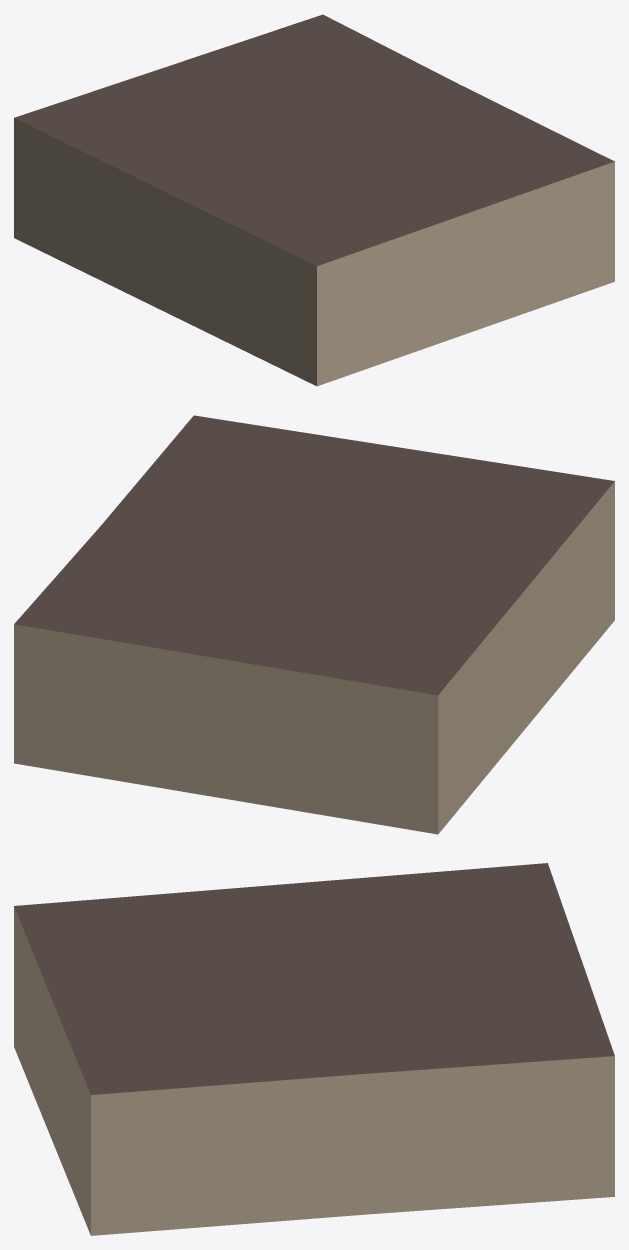
3 views of the same model, one above another, from view 1: azimuth 30°, elevation 25°; view 2: azimuth 150°, elevation 25°; view 3: azimuth 270°, elevation 25° (orthographic). The views are drawn at different scales.
Visible parts, largest first — view 1: HP-w1196661451; view 2: HP-w1196661451; view 3: HP-w1196661451.
Boxes of the visible parts, x1,y1,x2,y2 form: HP-w1196661451: [14, 14, 614, 386]; HP-w1196661451: [14, 415, 614, 834]; HP-w1196661451: [14, 863, 614, 1235].
Bounding box in the file's own units: 31.82 × 9 × 34.81.
